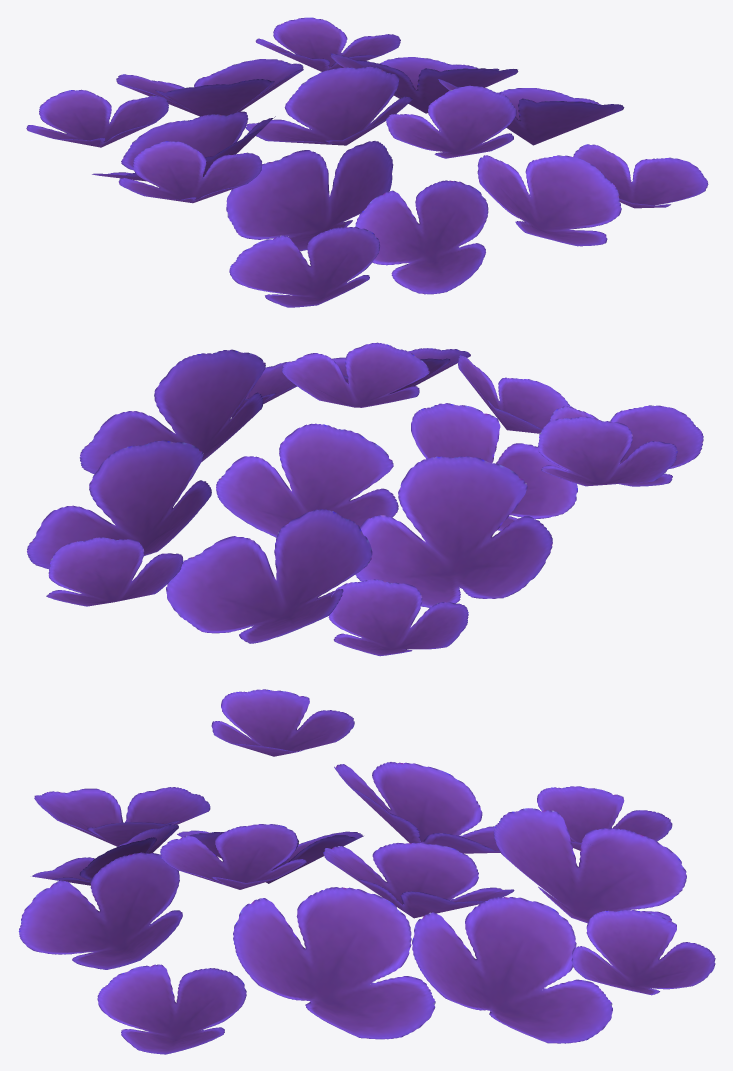
Rendered from Plant_7_Big.gltf.
3 views of the same model, one above another, from view 1: azimuth 30°, elevation 25°; view 2: azimuth 150°, elevation 25°; view 3: azimuth 270°, elevation 25° (orthographic). The views are drawn at different scales.
Parts seen in each view (by area): view 1: Plant_7_Big; view 2: Plant_7_Big; view 3: Plant_7_Big.
Part boxes in pixels (left/top/right/bottom): Plant_7_Big: left=26, top=17, right=708, bottom=307; Plant_7_Big: left=27, top=342, right=703, bottom=656; Plant_7_Big: left=18, top=689, right=715, bottom=1054.
Size of the model in its own units: 1.31 by 0.2534 by 1.36.
Materials: 1 (1 with a texture image).
